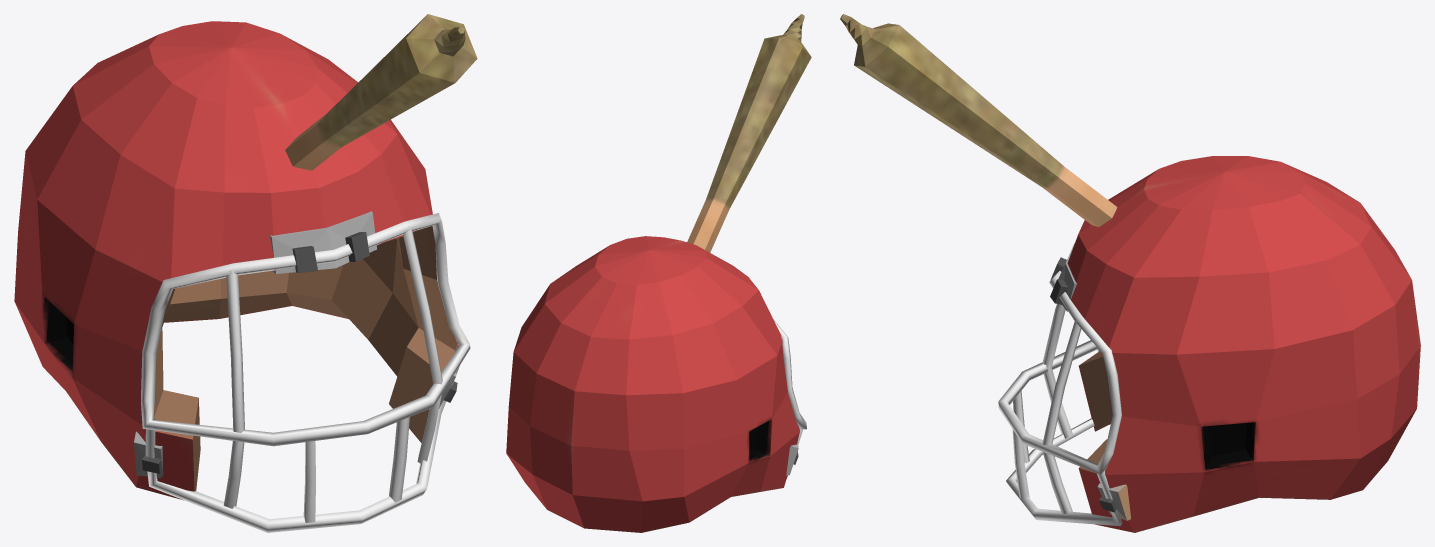
Rendered from football helmet.fbx.
The picture shows the model from 3 angles, left to right: view 1: azimuth 30°, elevation 25°; view 2: azimuth 150°, elevation 25°; view 3: azimuth 270°, elevation 25°; orthographic projection. The views are drawn at different scales.
Parts seen in each view (by area): view 1: football helmet; view 2: football helmet; view 3: football helmet.
Part boxes in pixels (x1=…): football helmet: x1=14, y1=14, x2=477, y2=532; football helmet: x1=506, y1=14, x2=811, y2=532; football helmet: x1=840, y1=14, x2=1420, y2=532.
Size of the model in its own units: 65.53 by 104 by 116.
Materials: 1 (1 with a texture image).
